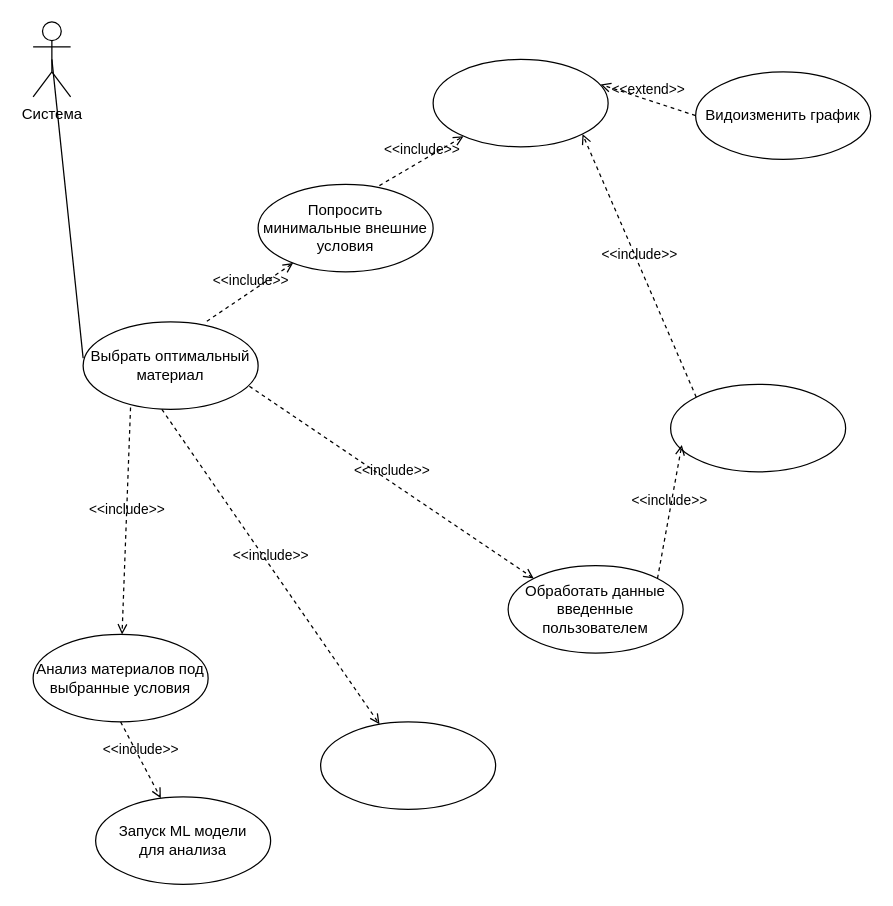
The diagram is 893 pixels wide and 906 high, and some of its shapes have lost their labels. Each missing label, with the box of its shape:
Занести все полученные данные в таблицу: (669, 383, 846, 472)
Построить график зависимтости материалов от условий вн.среды: (432, 58, 608, 147)
Рекомендации от системы: (319, 721, 496, 809)
